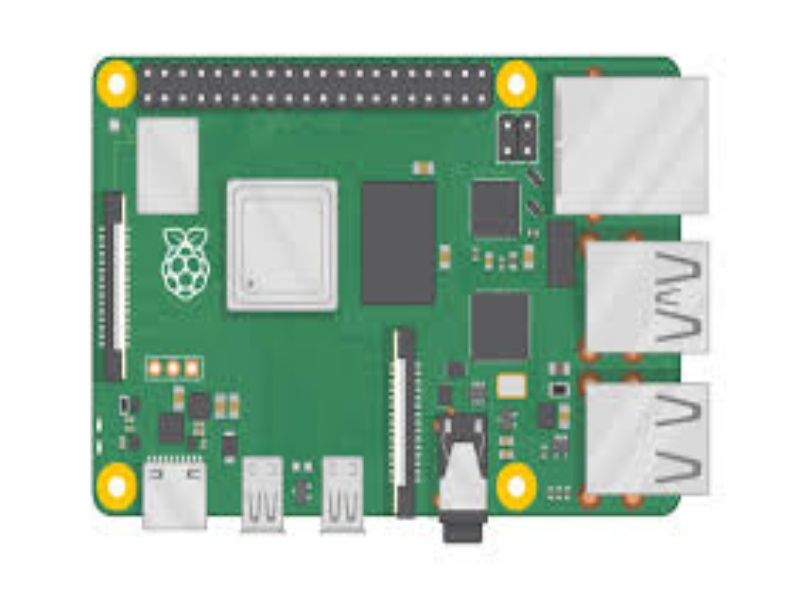raspberrypi: (73, 45, 718, 535)
